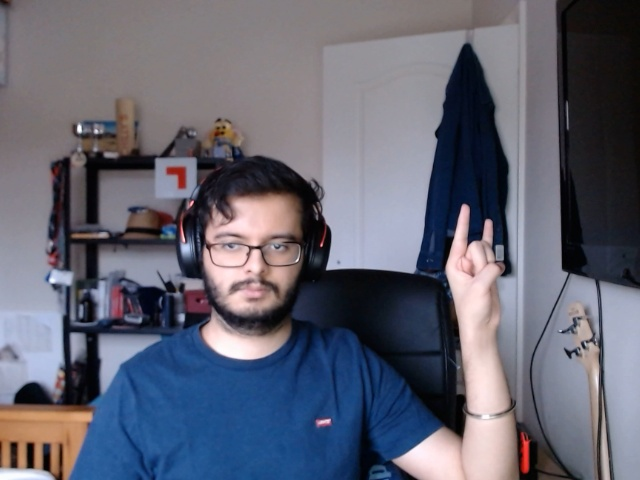Rock on: (431, 194, 526, 339)
